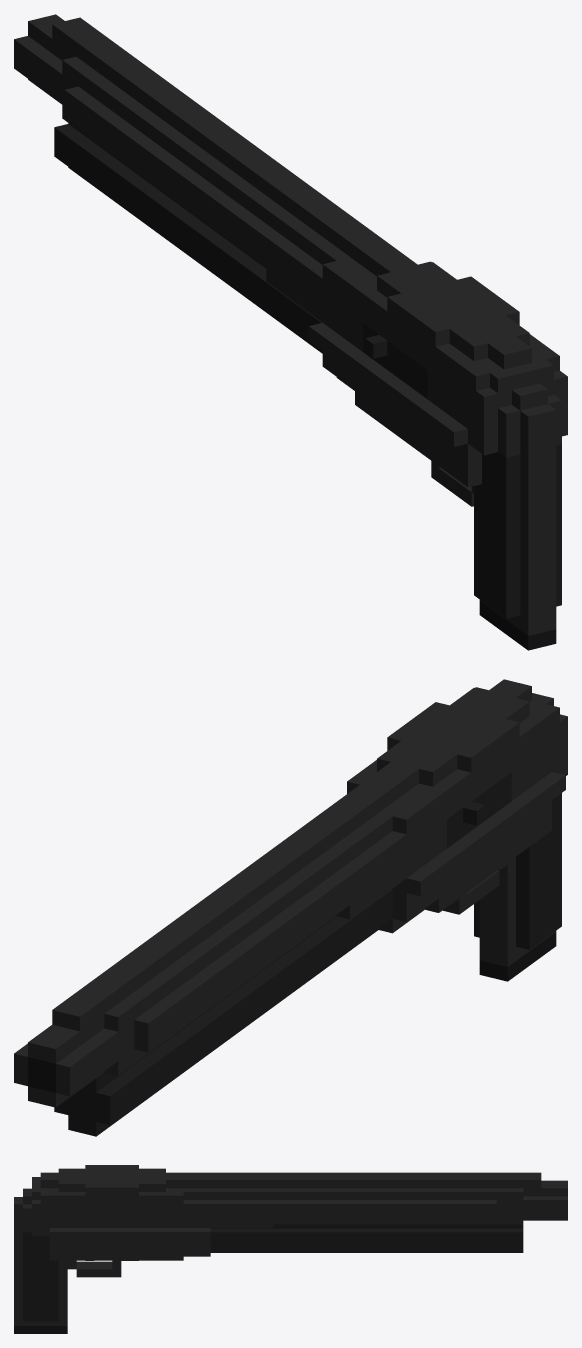
Rendered from ShotGunMesh.obj.
3 views of the same model, one above another, from view 1: azimuth 30°, elevation 25°; view 2: azimuth 150°, elevation 25°; view 3: azimuth 270°, elevation 25° (orthographic). The views are drawn at different scales.
Size of the model in its own units: 0.8 by 1.9 by 6.2.
1 material, 1 textured.
